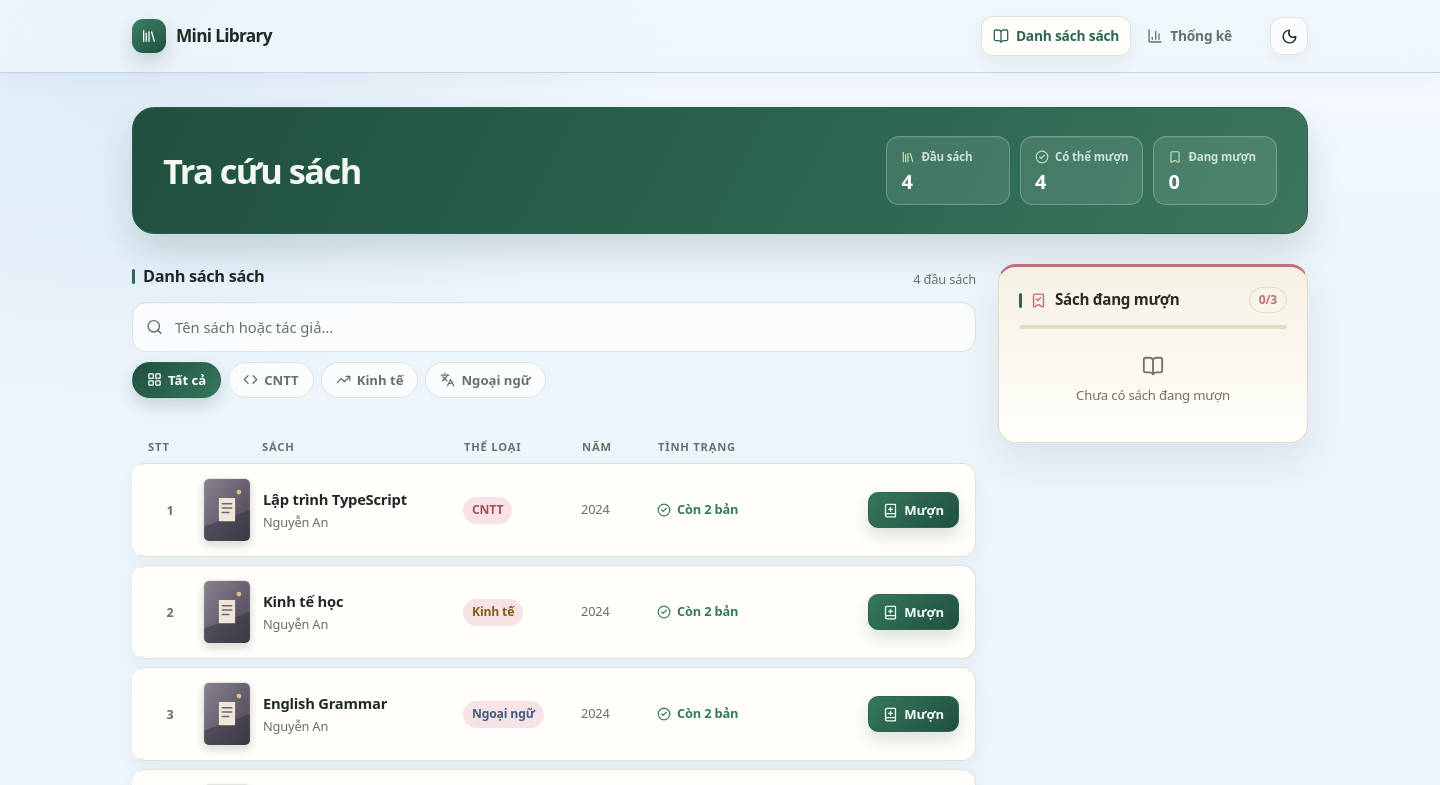
Scenario: search can be cleared without losing the selected category
The image size is (1440, 785).
Click the button "CNTT". click: [271, 380]
box: left=228, top=362, right=314, bottom=398
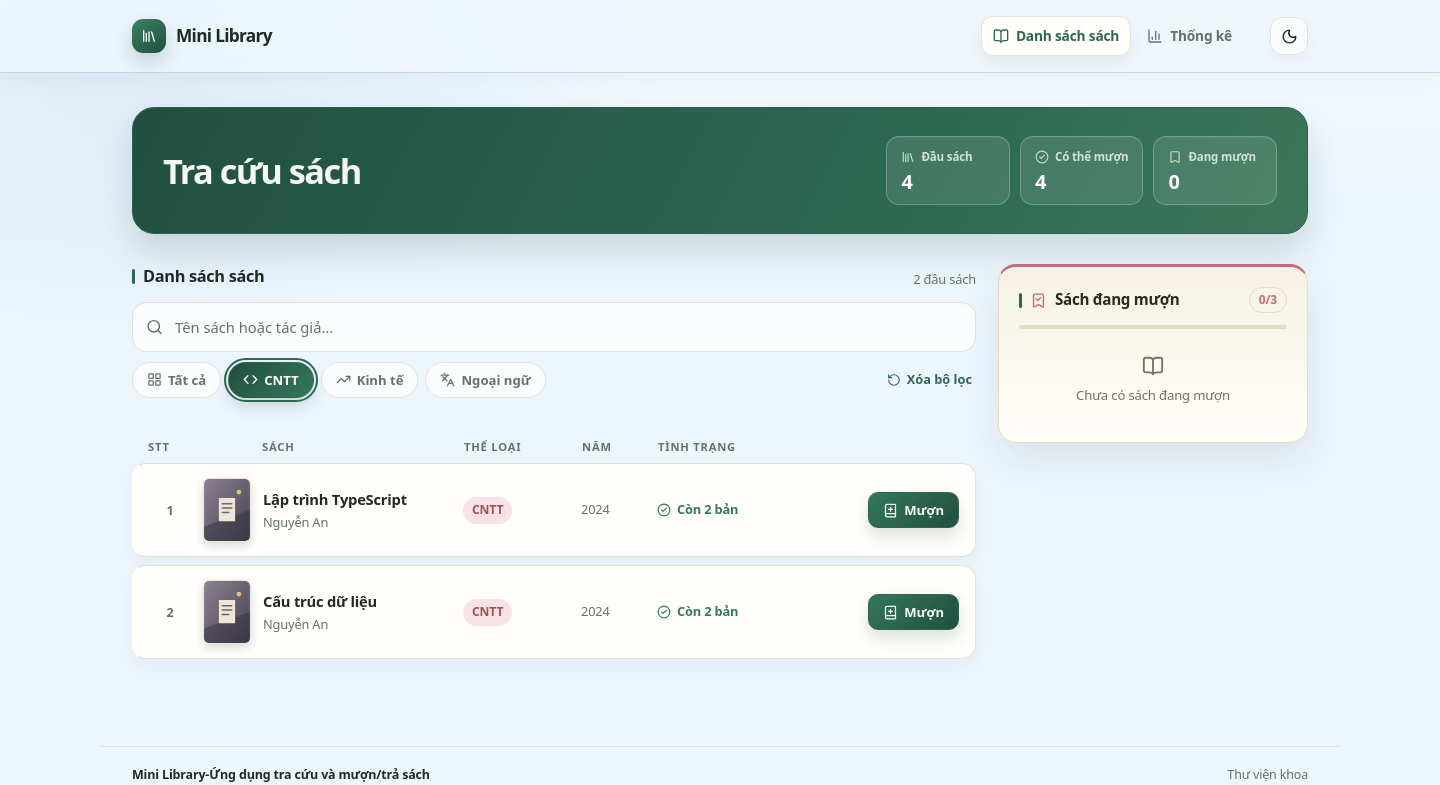
Type "TypeScript" into the search field. click: [554, 327]
box: left=132, top=302, right=976, bottom=352
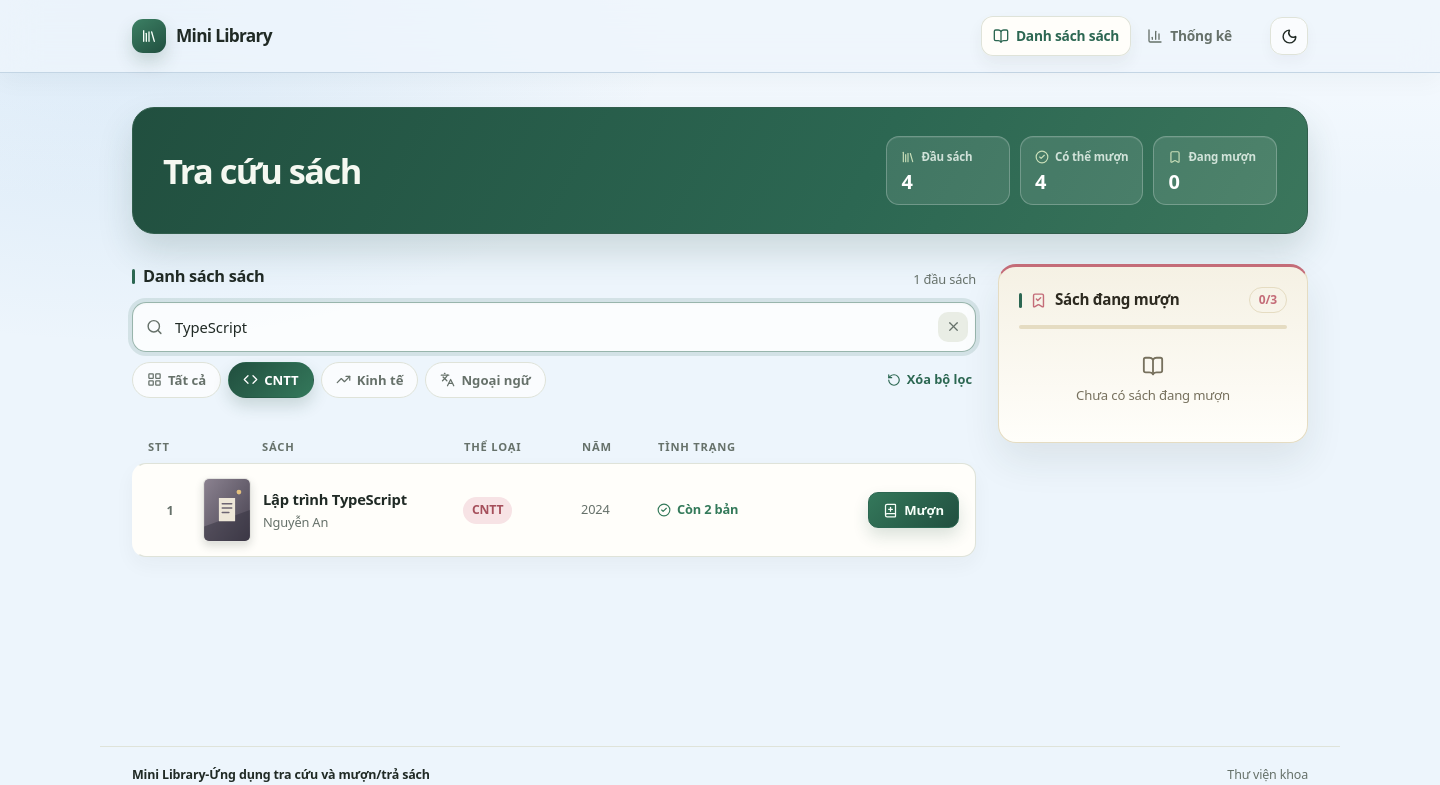
Check: the heading "Cấu trúc dữ liệu" is gone
Click the button named "Xóa tìm kiếm". click: [953, 327]
box: left=938, top=312, right=968, bottom=342
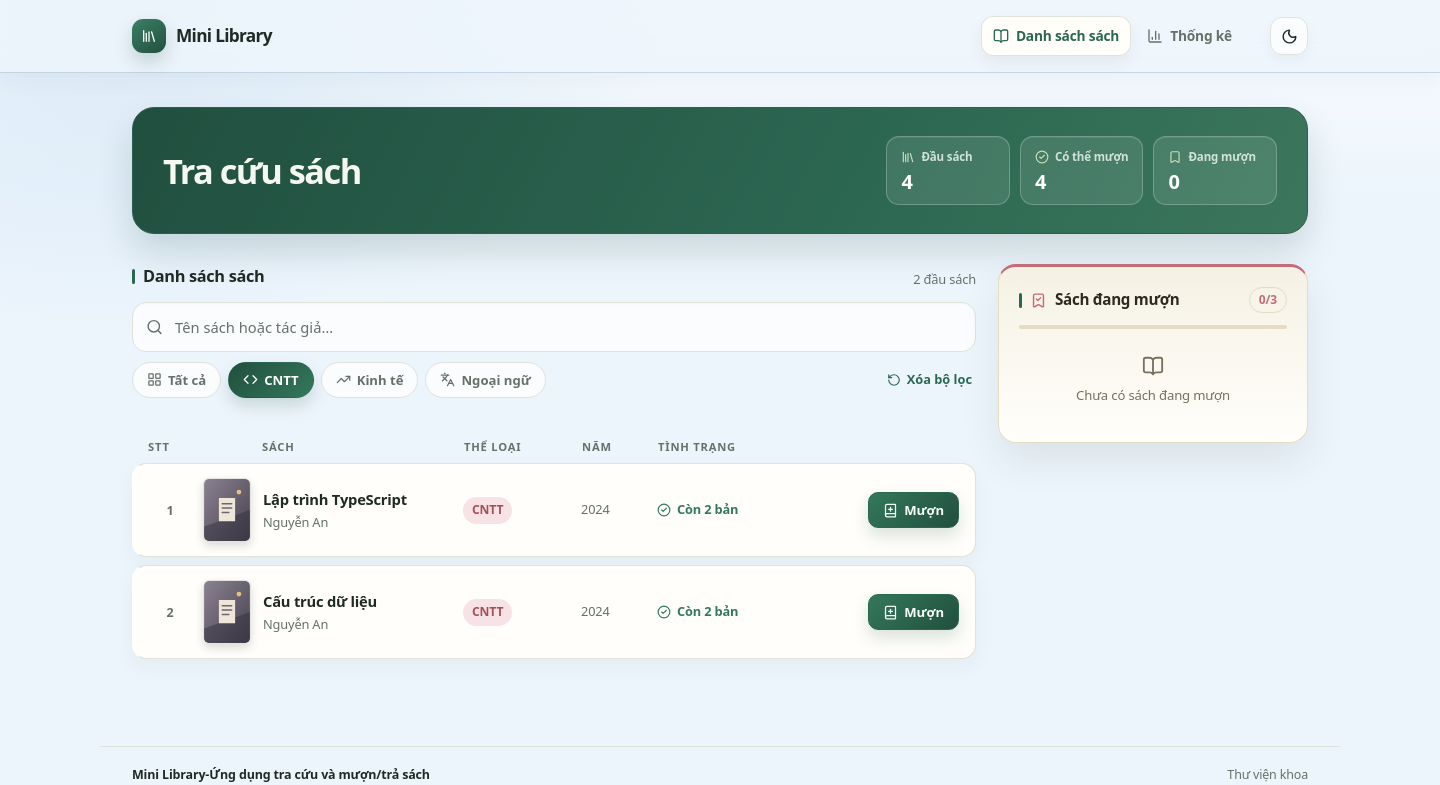
Check: the heading "Kinh tế học" is not shown
Check: the search field is empty, box left=132, top=302, right=976, bottom=352
Check: the heading "Cấu trúc dữ liệu" is shown, box left=263, top=590, right=377, bottom=613
